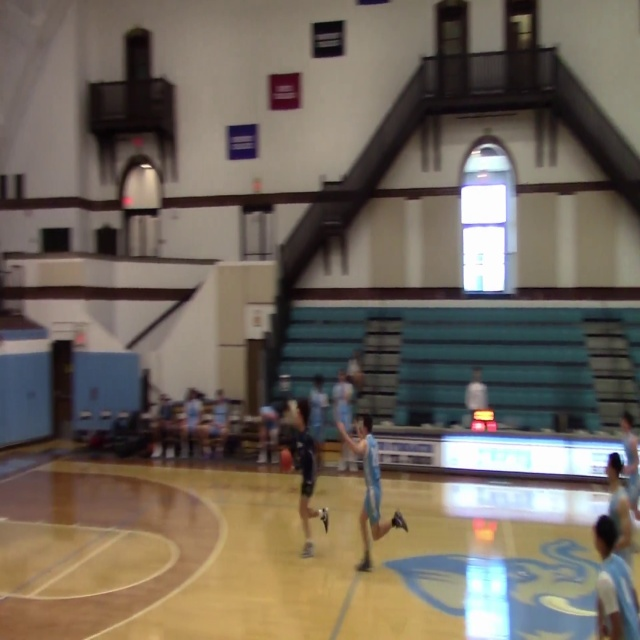Basketball: (279, 449, 293, 470)
